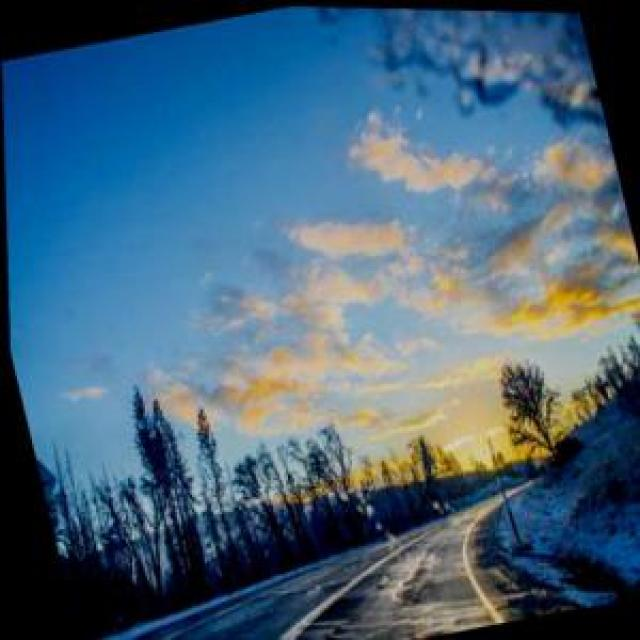ice-road: (134, 489, 582, 640)
